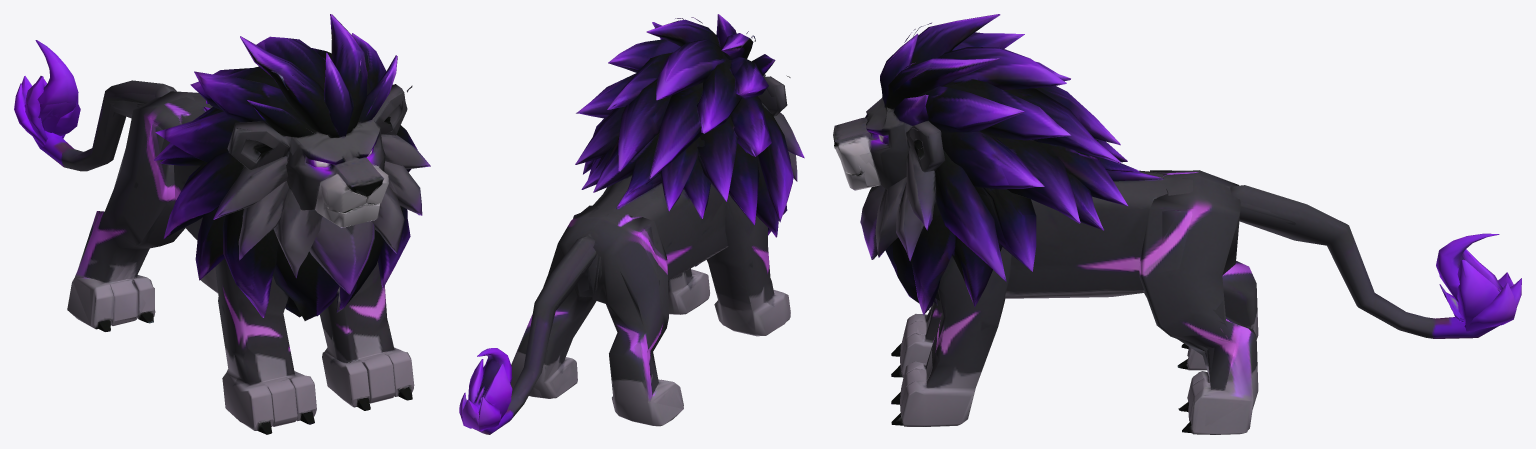
The model's file is creature_lion_shadow_forge.glb.
The picture shows the model from 3 angles, left to right: view 1: azimuth 30°, elevation 25°; view 2: azimuth 150°, elevation 25°; view 3: azimuth 270°, elevation 25°; orthographic projection. The views are drawn at different scales.
Bounding box in the file's own units: 0.3813 × 0.5415 × 0.9497.
1 material, 1 textured.
